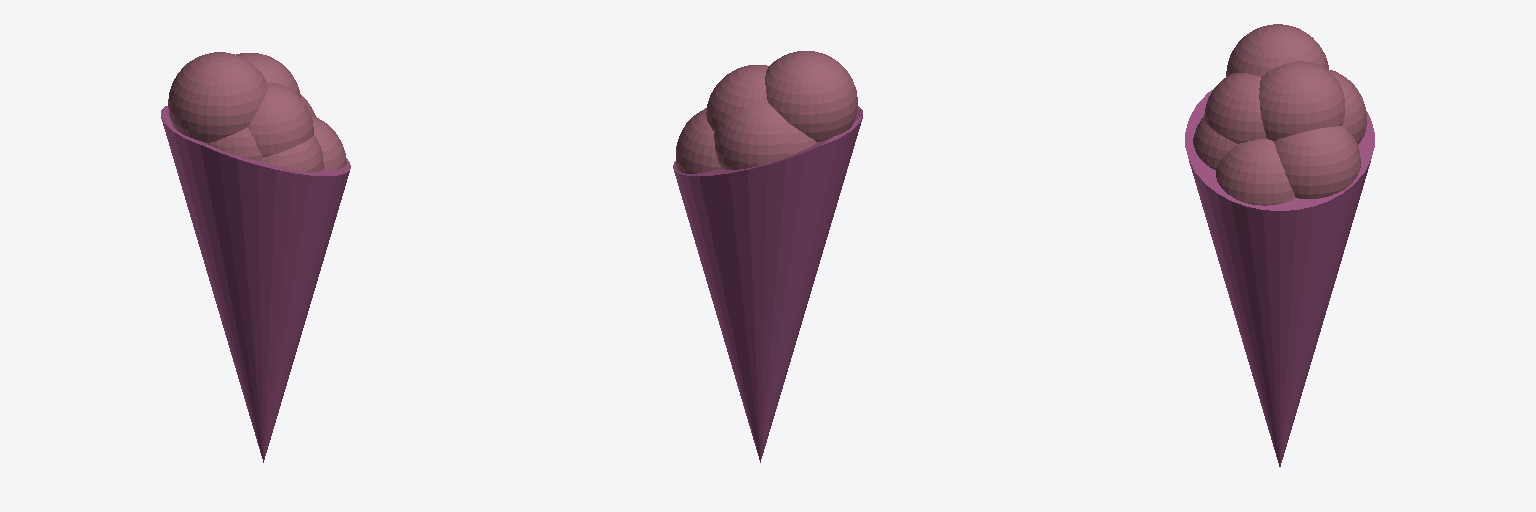
The model's file is icecream1.obj.
3 renders of one model, left to right at view 1: azimuth 30°, elevation 25°; view 2: azimuth 150°, elevation 25°; view 3: azimuth 270°, elevation 25°, orthographic.
Visible parts, largest first — view 1: Cone, Sphere.008, Sphere.006, Sphere.001, Sphere.004, Sphere.005, Sphere; view 2: Cone, Sphere.008, Sphere.007, Sphere.005, Sphere.003; view 3: Cone, Sphere.005, Sphere.003, Sphere.004, Sphere.008, Sphere.006, Sphere.007, Sphere.001.
Part boxes in pixels (bbox=[...]): Cone: bbox=[161, 106, 350, 462]; Sphere.008: bbox=[168, 52, 267, 142]; Sphere.006: bbox=[248, 83, 313, 156]; Sphere.001: bbox=[261, 135, 323, 172]; Sphere.004: bbox=[311, 115, 346, 168]; Sphere.005: bbox=[236, 53, 300, 97]; Sphere: bbox=[207, 127, 263, 160]; Cone: bbox=[673, 106, 862, 462]; Sphere.008: bbox=[765, 51, 857, 141]; Sphere.007: bbox=[714, 103, 789, 169]; Sphere.005: bbox=[706, 65, 768, 131]; Sphere.003: bbox=[676, 108, 721, 173]; Cone: bbox=[1185, 89, 1374, 466]; Sphere.005: bbox=[1259, 61, 1344, 140]; Sphere.003: bbox=[1273, 126, 1360, 198]; Sphere.004: bbox=[1216, 139, 1295, 205]; Sphere.008: bbox=[1226, 24, 1328, 76]; Sphere.006: bbox=[1204, 73, 1266, 143]; Sphere.007: bbox=[1326, 69, 1366, 144]; Sphere.001: bbox=[1193, 117, 1236, 169].
Size of the model in its own units: 1.47 by 3.55 by 1.46.